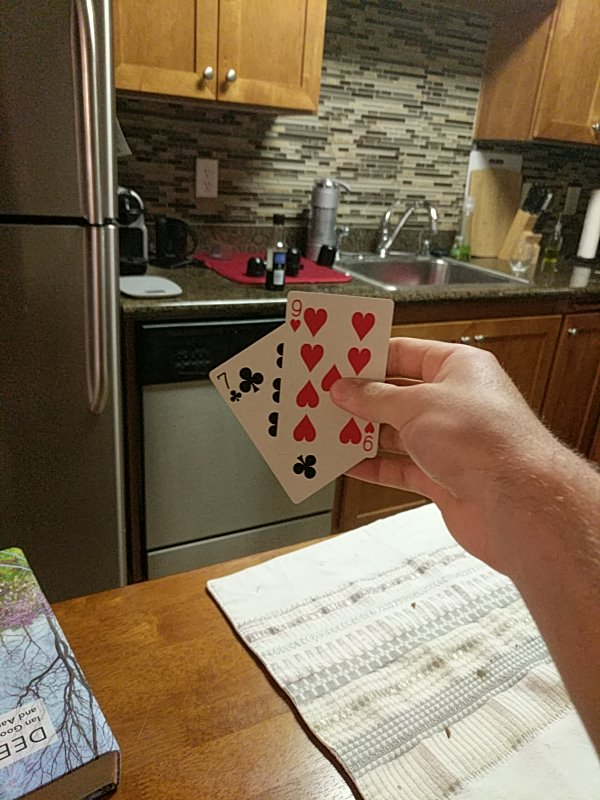Clubs: (207, 325, 375, 503)
Hearts: (277, 292, 396, 453)
